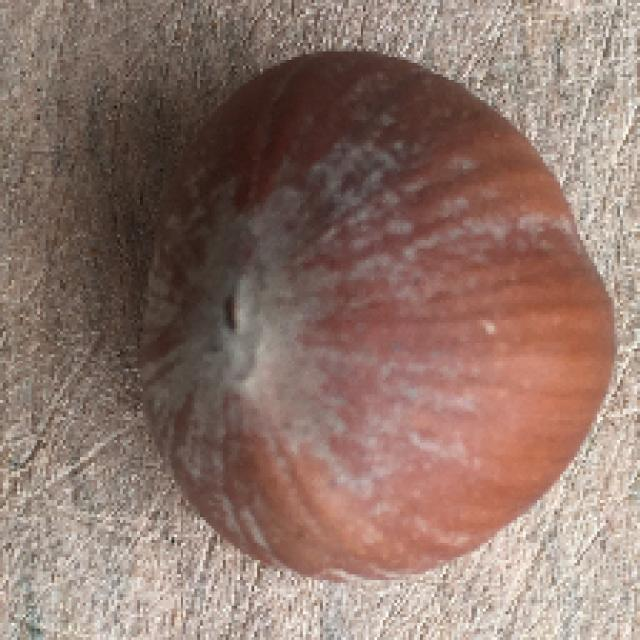DamagedHazelnut: (132, 60, 618, 581)
